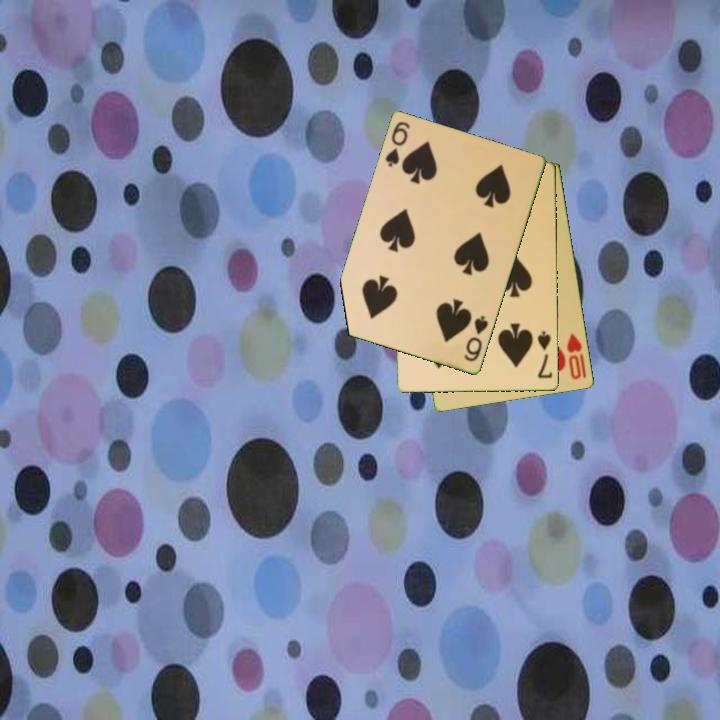10h: (563, 330, 590, 383)
6s: (382, 118, 413, 170), (461, 312, 491, 365)
7s: (534, 328, 555, 381)
